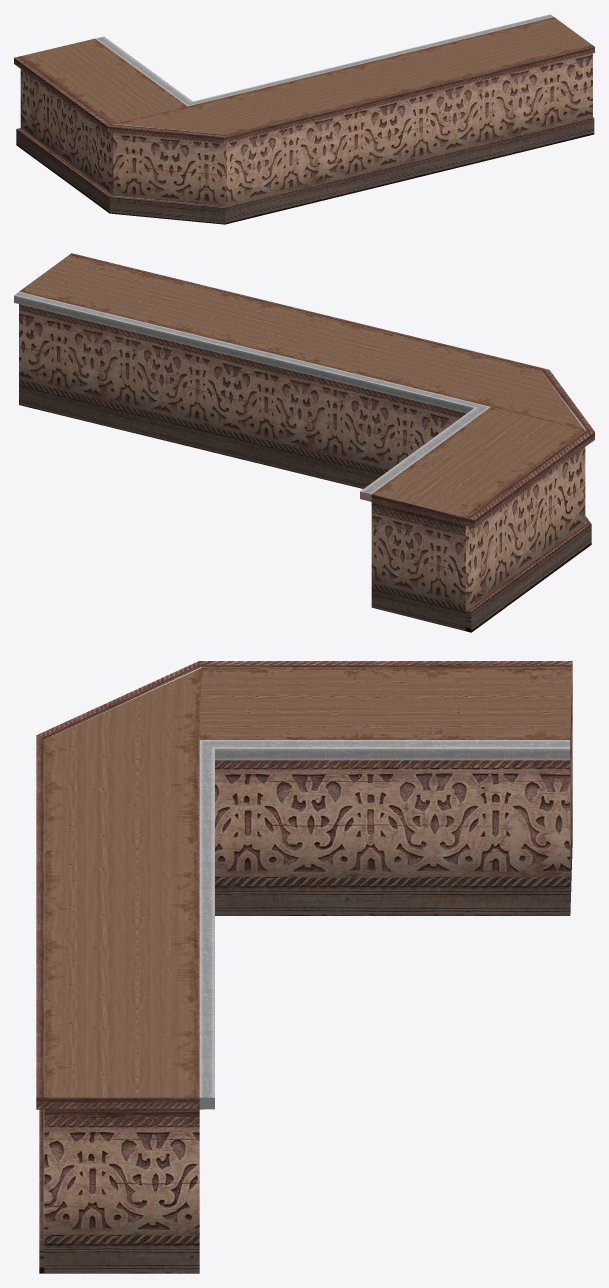
The model's file is MotelOffice.fbx.
3 renders of one model, top to bottom at view 1: azimuth 30°, elevation 25°; view 2: azimuth 150°, elevation 25°; view 3: azimuth 270°, elevation 25°, orthographic. The views are drawn at different scales.
Visible parts, largest first — view 1: MotelOffice; view 2: MotelOffice; view 3: MotelOffice.
Part boxes in pixels (x1,y1,x2,y2): MotelOffice: [14, 14, 594, 224]; MotelOffice: [14, 253, 594, 632]; MotelOffice: [36, 661, 572, 1273].
Size of the model in its own units: 303 by 57.14 by 157.
